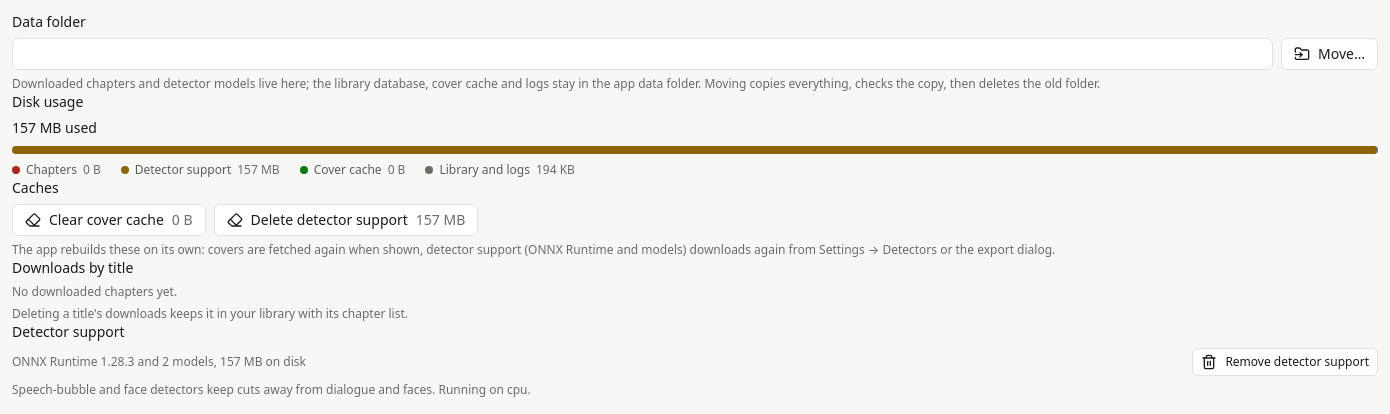
Detector support after a delete (#170, #211) › measures Storage and the detector row again without a focus change
Check: the button "Delete detector support 157 MB" is shown, box 214,204 -> 478,236
Click the button "Remove detector support".
click(1285, 362)  # box 1192,348 -> 1378,376
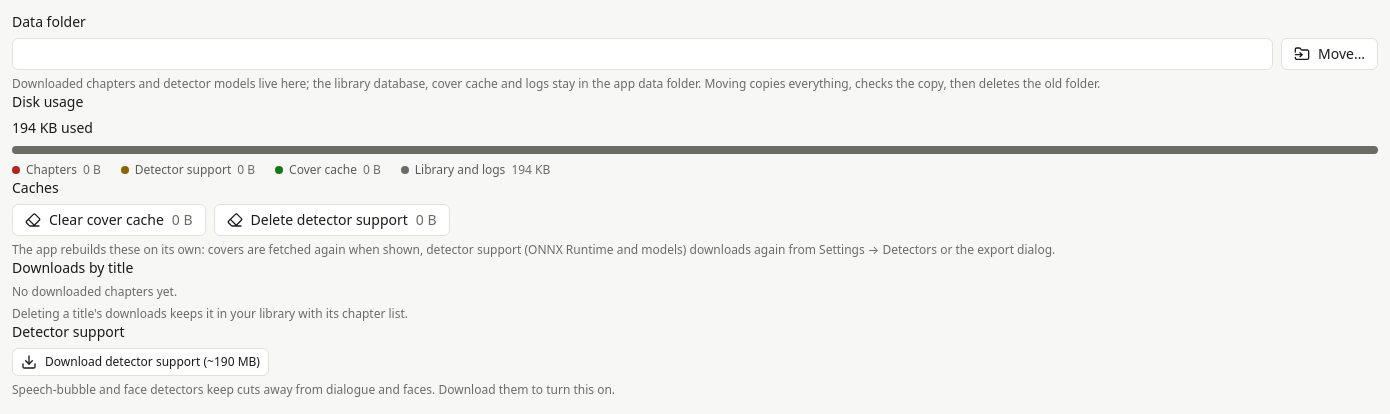
Check: the button "Delete detector support 0 B" is shown, box 214,204 -> 450,236
Check: the button "Download detector support (~190 MB)" is shown, box 12,348 -> 269,376
